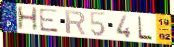4: (115, 14, 133, 39)
5: (89, 10, 107, 38)
E: (38, 7, 61, 34)
H: (16, 5, 40, 32)
L: (137, 15, 154, 42)
R: (64, 9, 87, 36)
